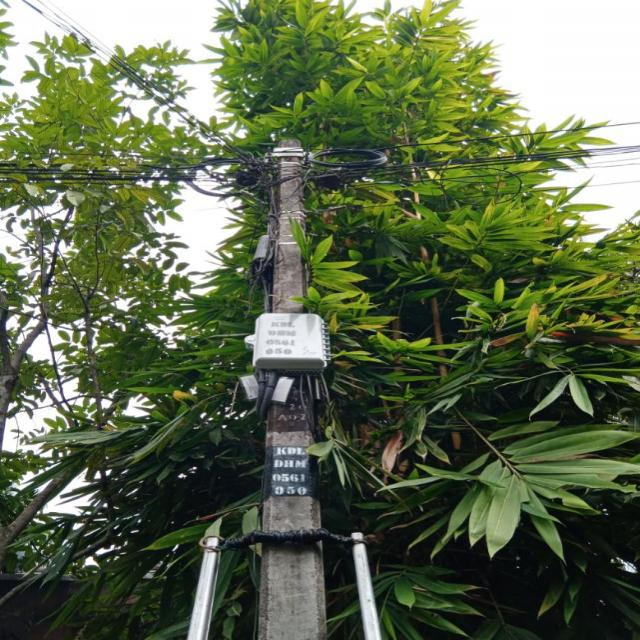light_pole: (252, 127, 340, 640)
